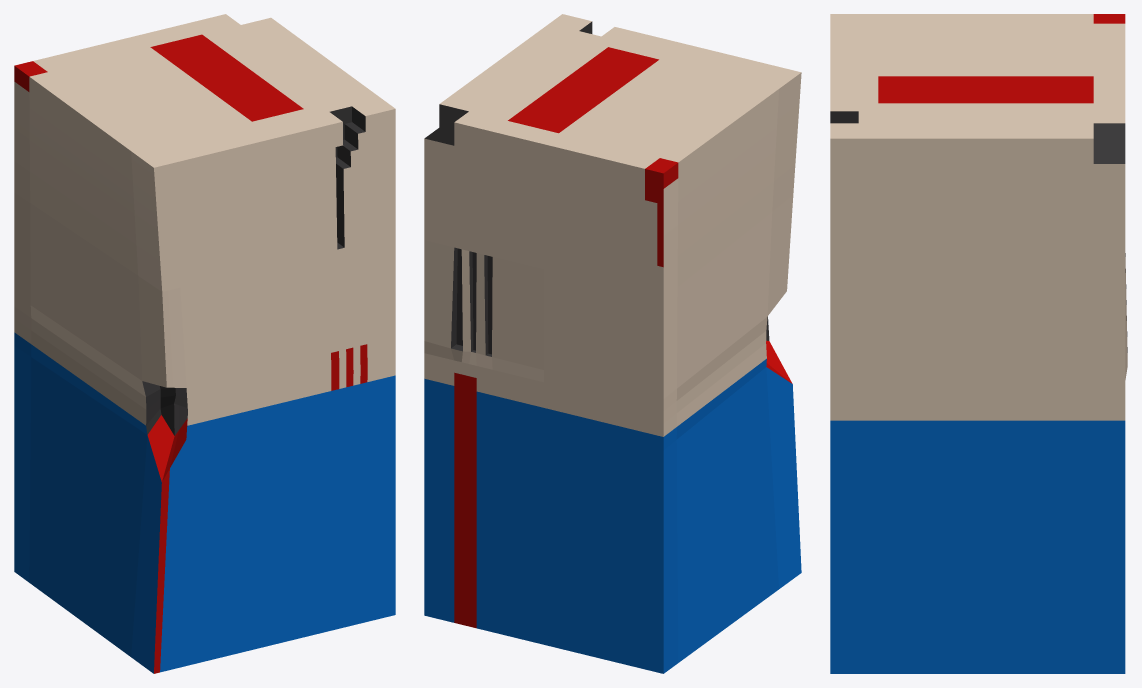
Rendered from hospital_wall.fbx.
3 renders of one model, left to right at view 1: azimuth 30°, elevation 25°; view 2: azimuth 150°, elevation 25°; view 3: azimuth 270°, elevation 25°, orthographic. The views are drawn at different scales.
Visible parts, largest first — view 1: Cube; view 2: Cube; view 3: Cube.
Boxes of the visible parts, bbox=[...] form: Cube: bbox=[14, 14, 395, 673]; Cube: bbox=[424, 14, 801, 673]; Cube: bbox=[830, 14, 1127, 673].
Bounding box in the file's own units: 200 × 400 × 202.
